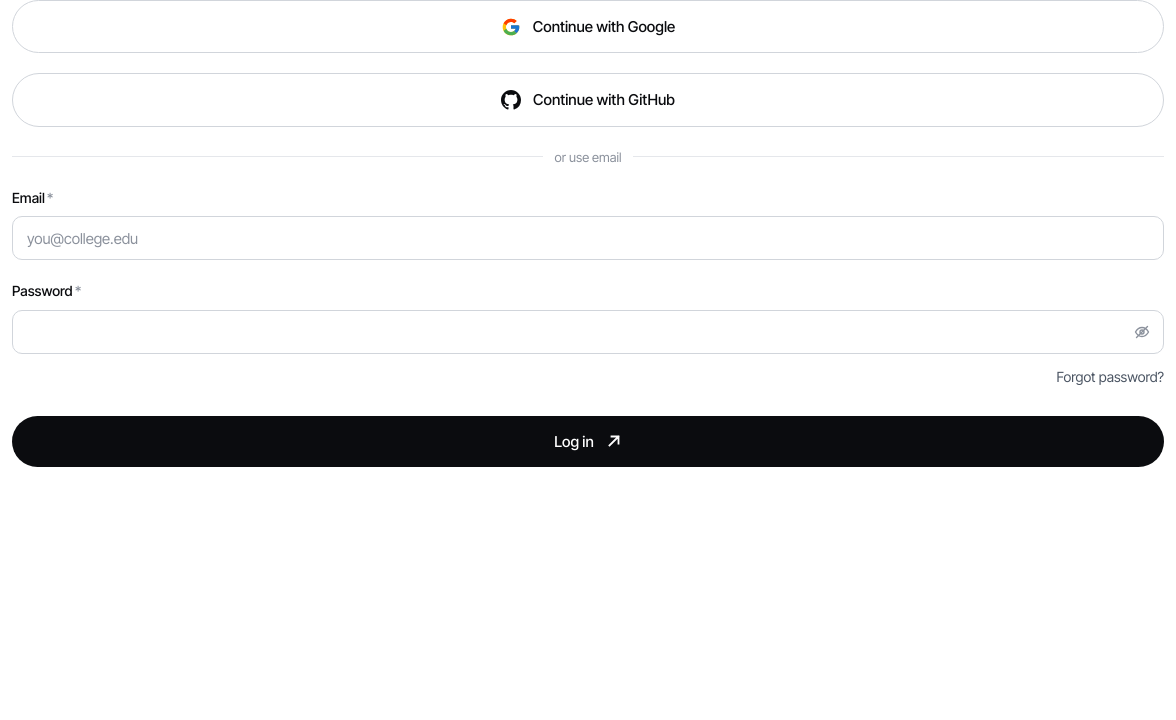
it: LoginForm › shows the API's error message on bad credentials
Step 1. Type "asha@college.edu" into the field labelled "Email*" → (588, 238), box [12, 216, 1164, 260]
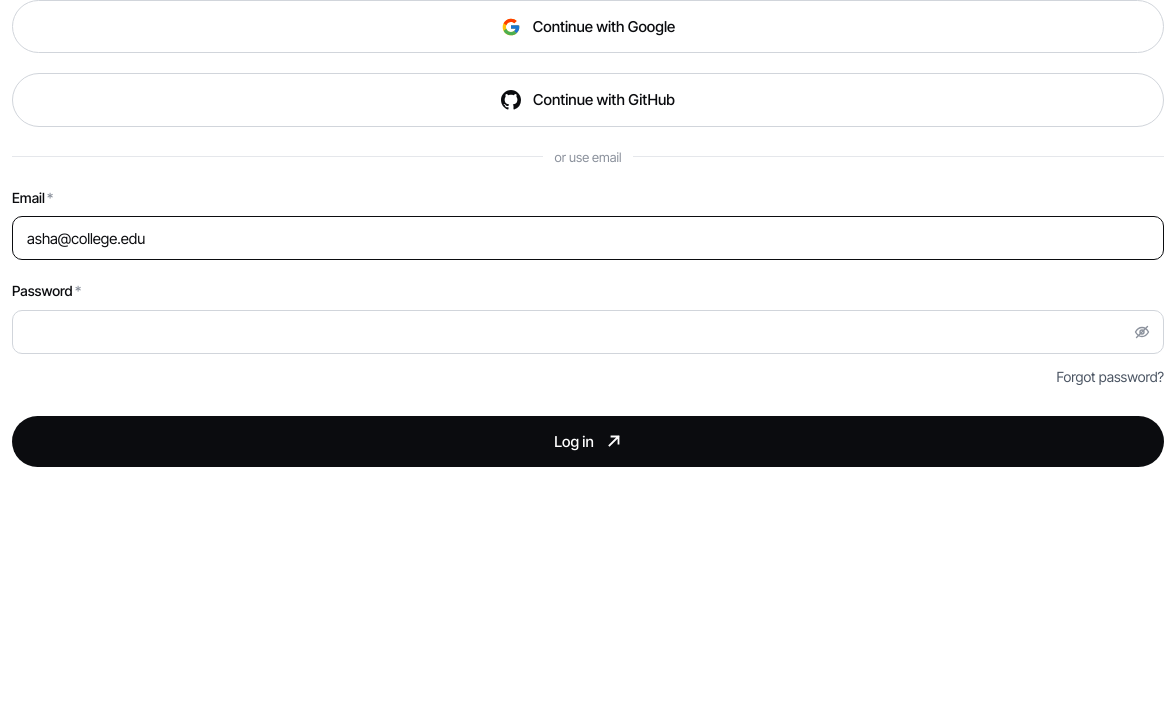
Step 2. Type "wrong-pass" into the password field labelled "Password*" → (588, 332), box [12, 310, 1164, 354]
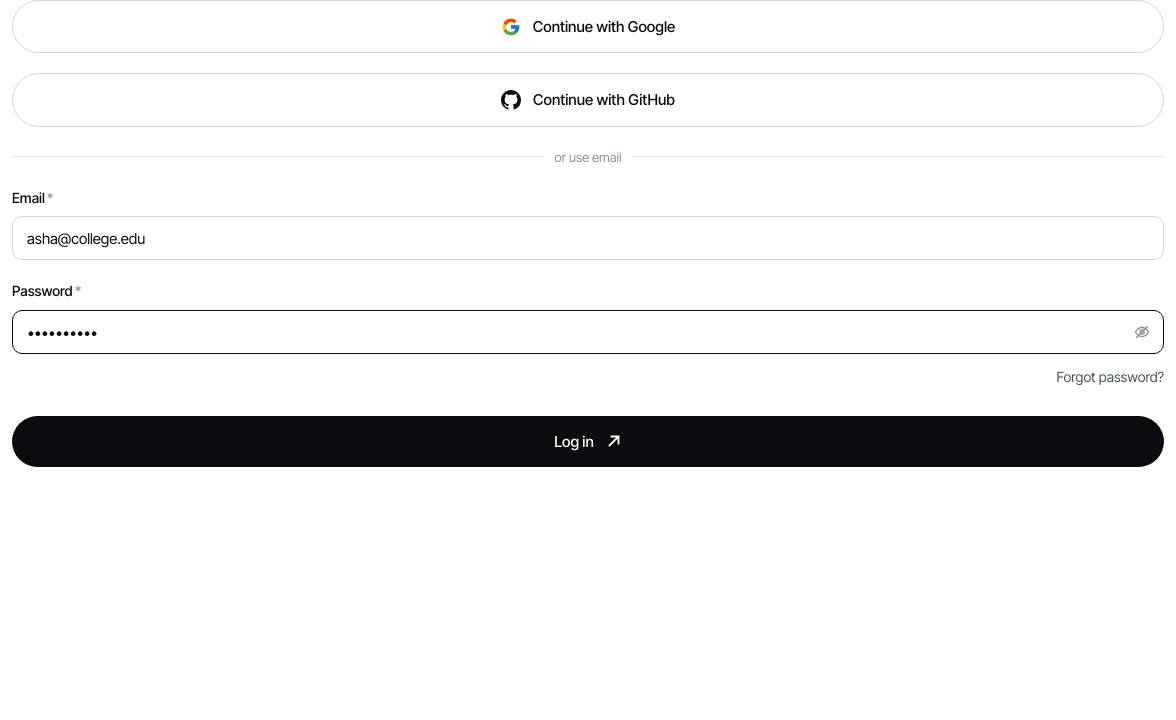
Step 3. Click the button "Log in Log in" → (588, 441), box [12, 416, 1164, 467]
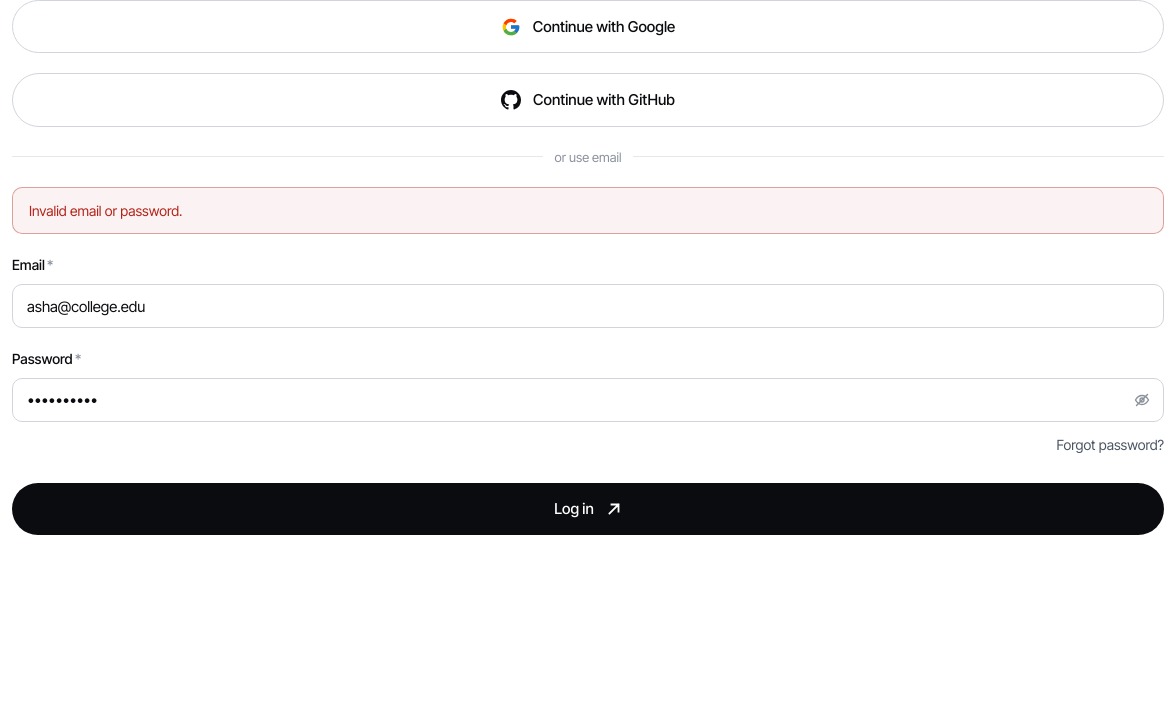
Expected: the message reads "Invalid email or password.", [29, 202, 182, 219]
